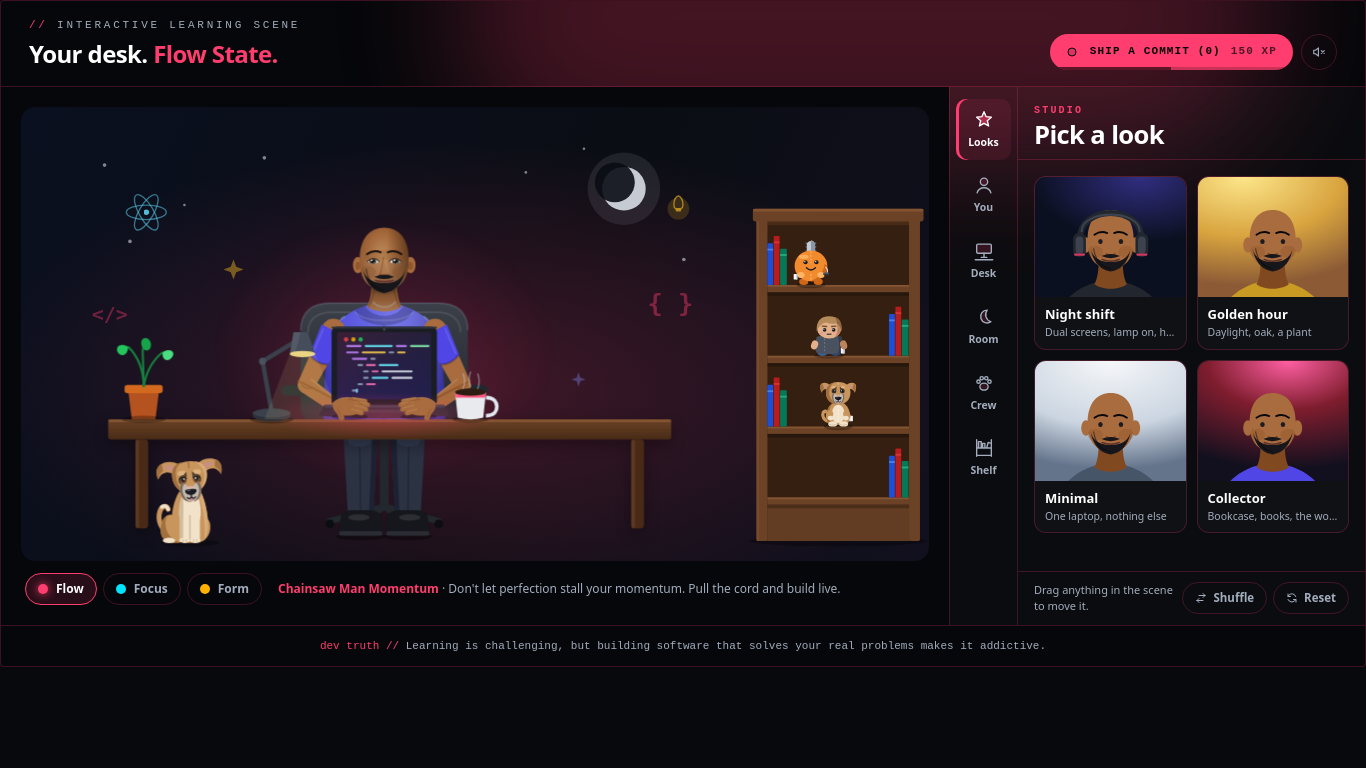
Test: InteractiveLearningScene Component › switches mindset modes from the segmented control
This screenshot has width=1366, height=768.
Click the radio button with aria-label "Deductive Focus": click(142, 588) [103,572,181,604]
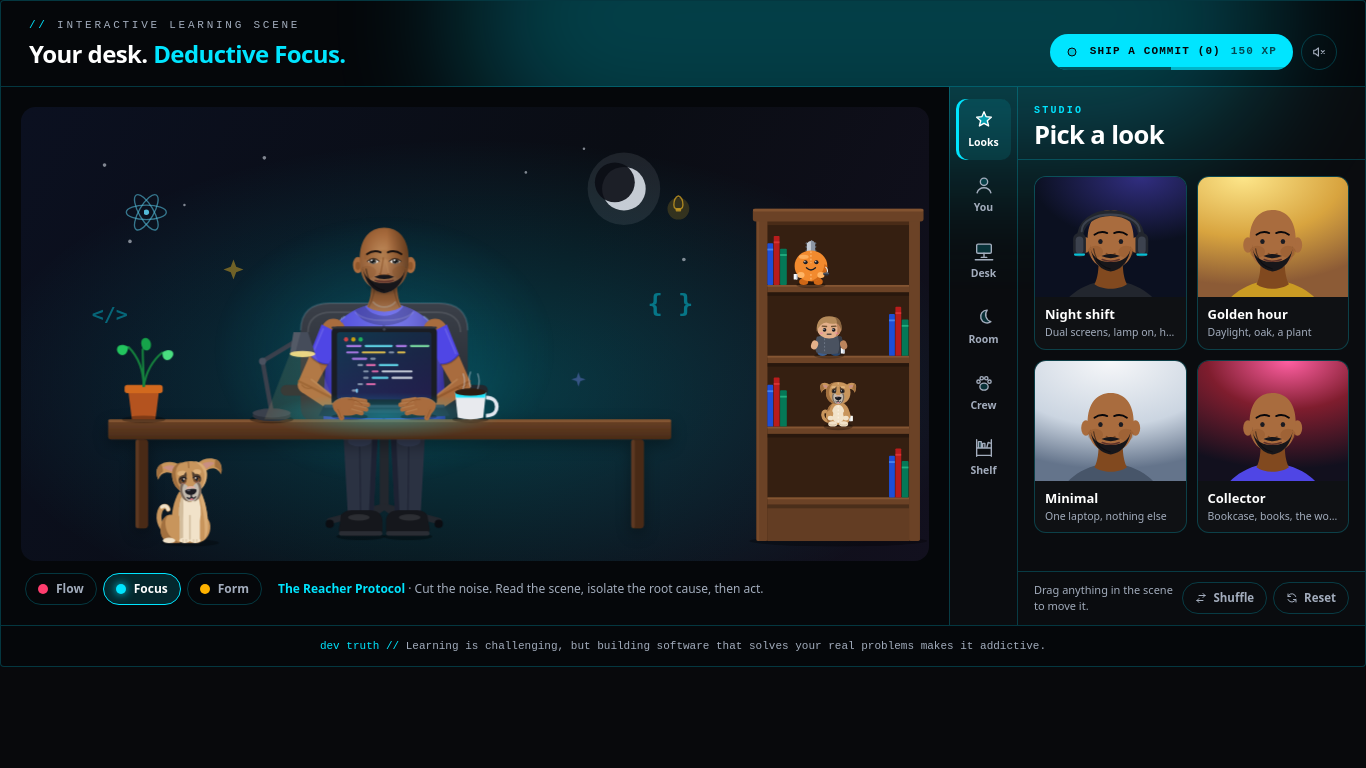
Result: the text "The Reacher Protocol" is shown at [278,580,405,596]
Click the radio button with aria-label "Iron Discipline": click(224, 588) [187,572,262,604]
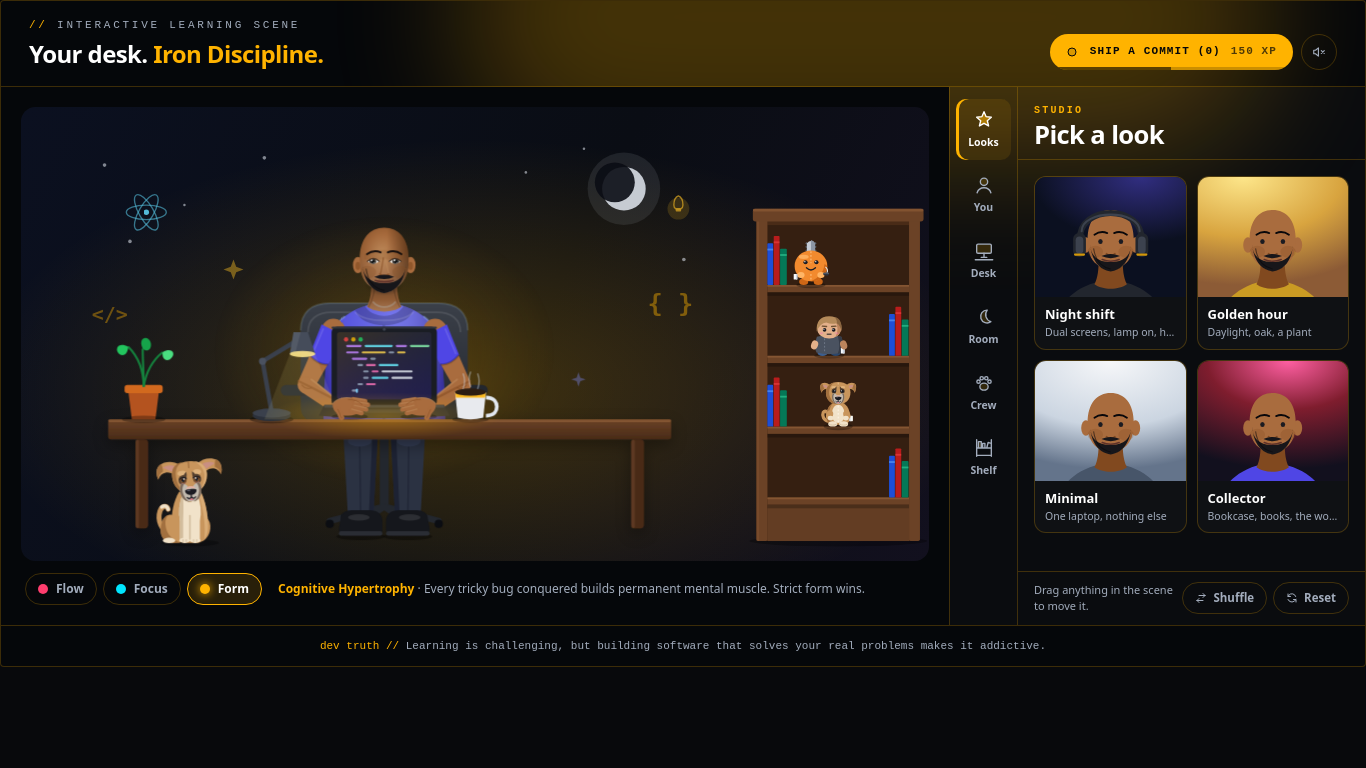
Result: the text "Cognitive Hypertrophy" is shown at [278,580,414,596]
